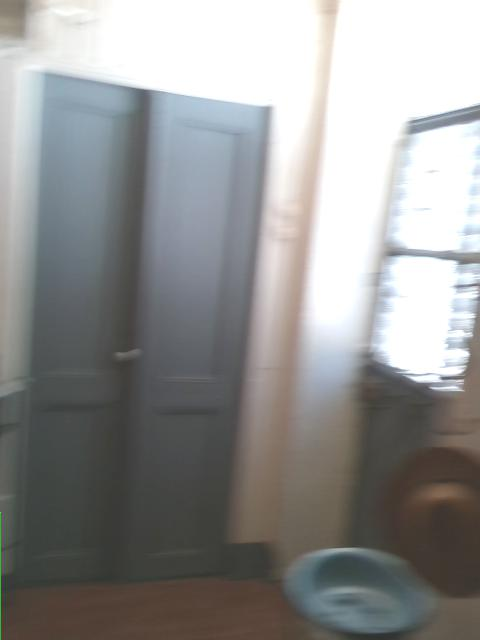closed_door: (18, 72, 274, 585)
